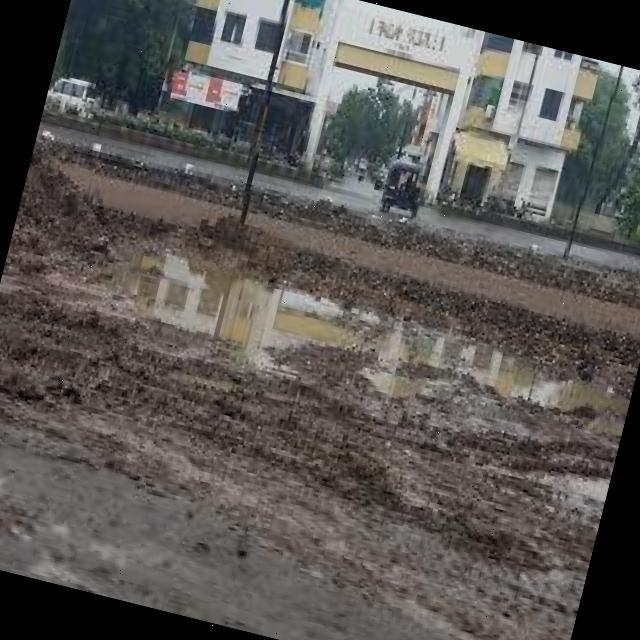stagnation: (0, 201, 625, 470)
